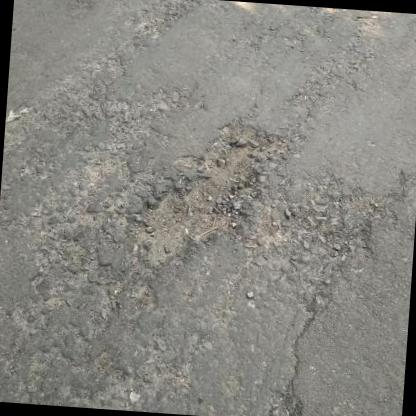pothole: (127, 108, 296, 273)
